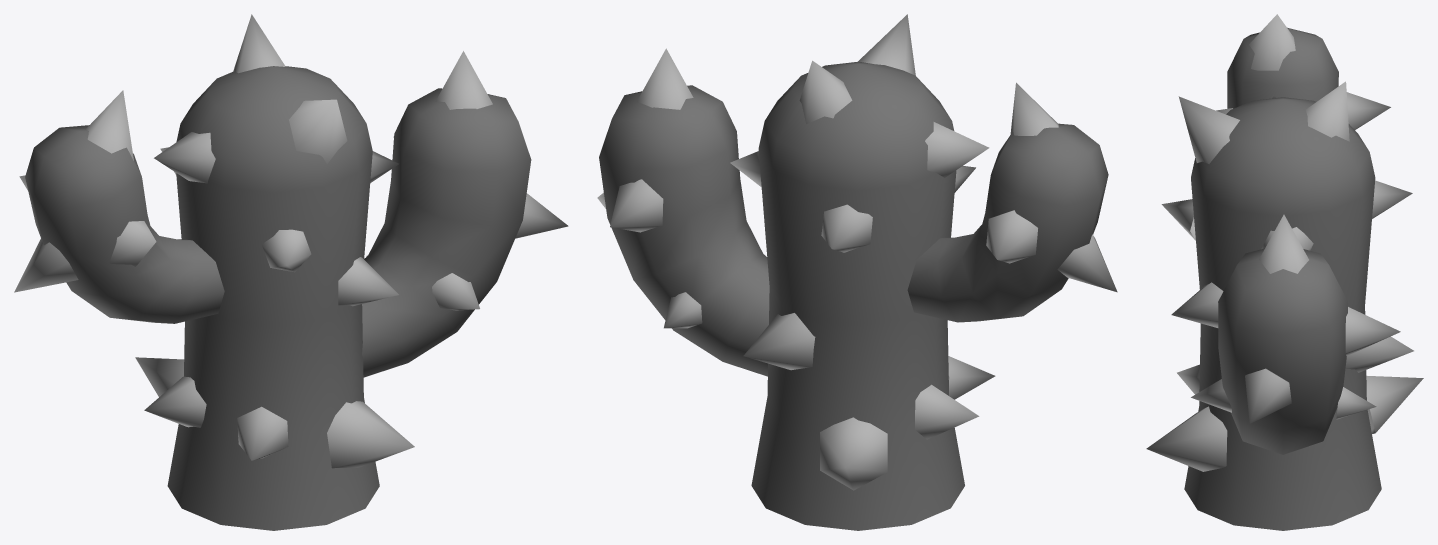
File: Cactus_2.fbx
3 views of the same model, side by side, from view 1: azimuth 30°, elevation 25°; view 2: azimuth 150°, elevation 25°; view 3: azimuth 270°, elevation 25° (orthographic). The views are drawn at different scales.
Parts seen in each view (by area): view 1: Cactus_2; view 2: Cactus_2; view 3: Cactus_2.
Part boxes in pixels (box(x1,y1,x2,y2)): Cactus_2: box(14, 14, 568, 530); Cactus_2: box(597, 14, 1117, 530); Cactus_2: box(1146, 14, 1423, 530).
Size of the model in its own units: 328 by 158 by 260.
